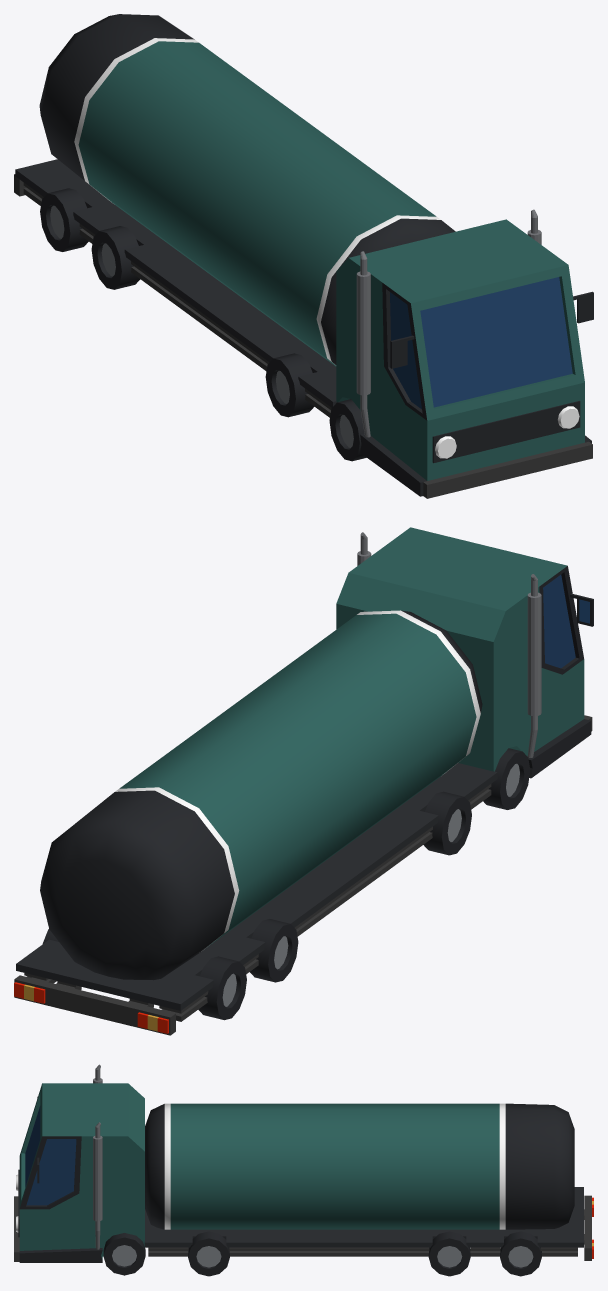
The model's file is Fuel Truck_2.fbx.
3 views of the same model, one above another, from view 1: azimuth 30°, elevation 25°; view 2: azimuth 150°, elevation 25°; view 3: azimuth 270°, elevation 25° (orthographic). The views are drawn at different scales.
Parts seen in each view (by area): view 1: Fuel Truck_2; view 2: Fuel Truck_2; view 3: Fuel Truck_2.
Boxes of the visible parts, <box> form: Fuel Truck_2: <box>14,14,593,498</box>; Fuel Truck_2: <box>14,527,593,1035</box>; Fuel Truck_2: <box>14,1064,593,1276</box>.
Bounding box in the file's own units: 228 × 239 × 820.
